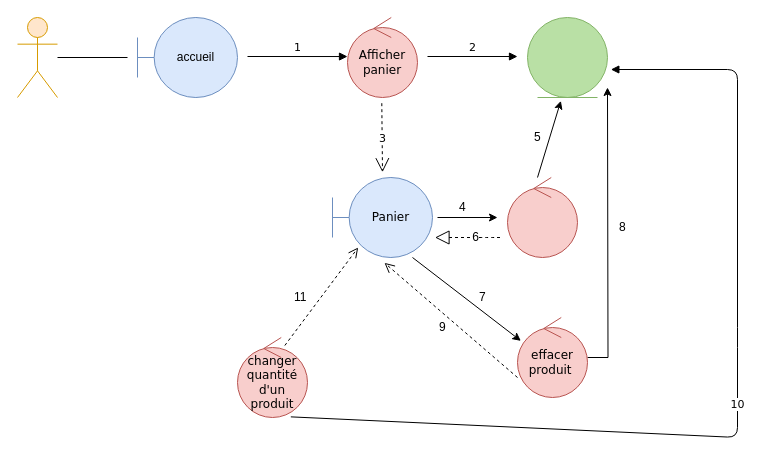
Image size: 763x463. Some labels were removed from this diagram. The centre of each missing label's shape, as x and y in pixels:
client: (37,57)
table Panier: (567,57)
Vider le panier: (542,217)
